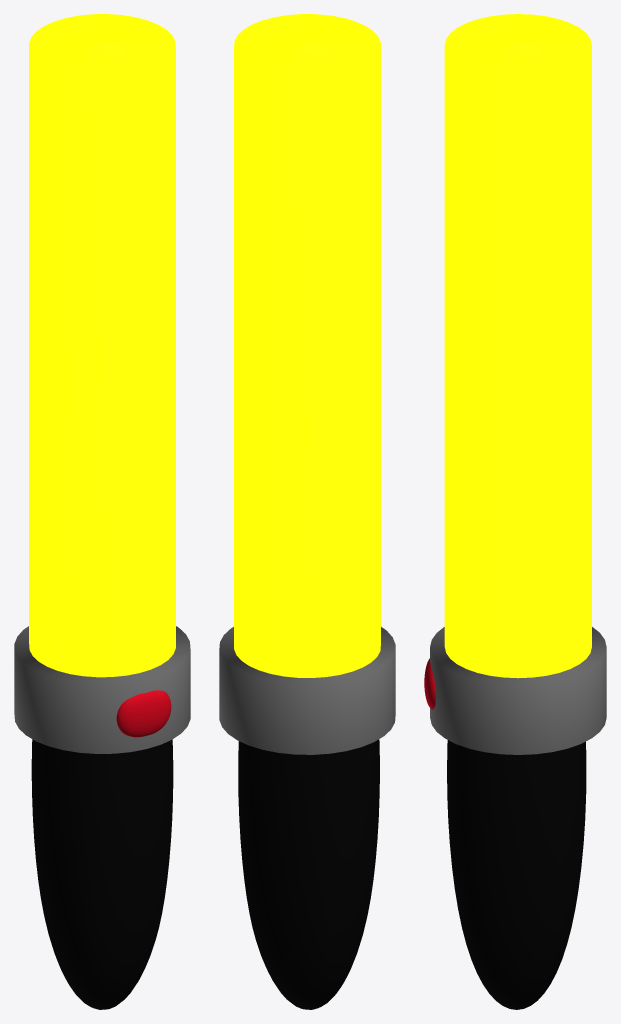
File: penlight(y).glb
The picture shows the model from 3 angles, left to right: view 1: azimuth 30°, elevation 25°; view 2: azimuth 150°, elevation 25°; view 3: azimuth 270°, elevation 25°; orthographic projection.
Parts seen in each view (by area): view 1: 円柱; view 2: 円柱; view 3: 円柱.
Part boxes in pixels (<box>): 円柱: <box>14,14,190,1009</box>; 円柱: <box>219,14,395,1009</box>; 円柱: <box>424,14,606,1009</box>.
Size of the model in its own units: 2.4 by 14.44 by 2.48.
